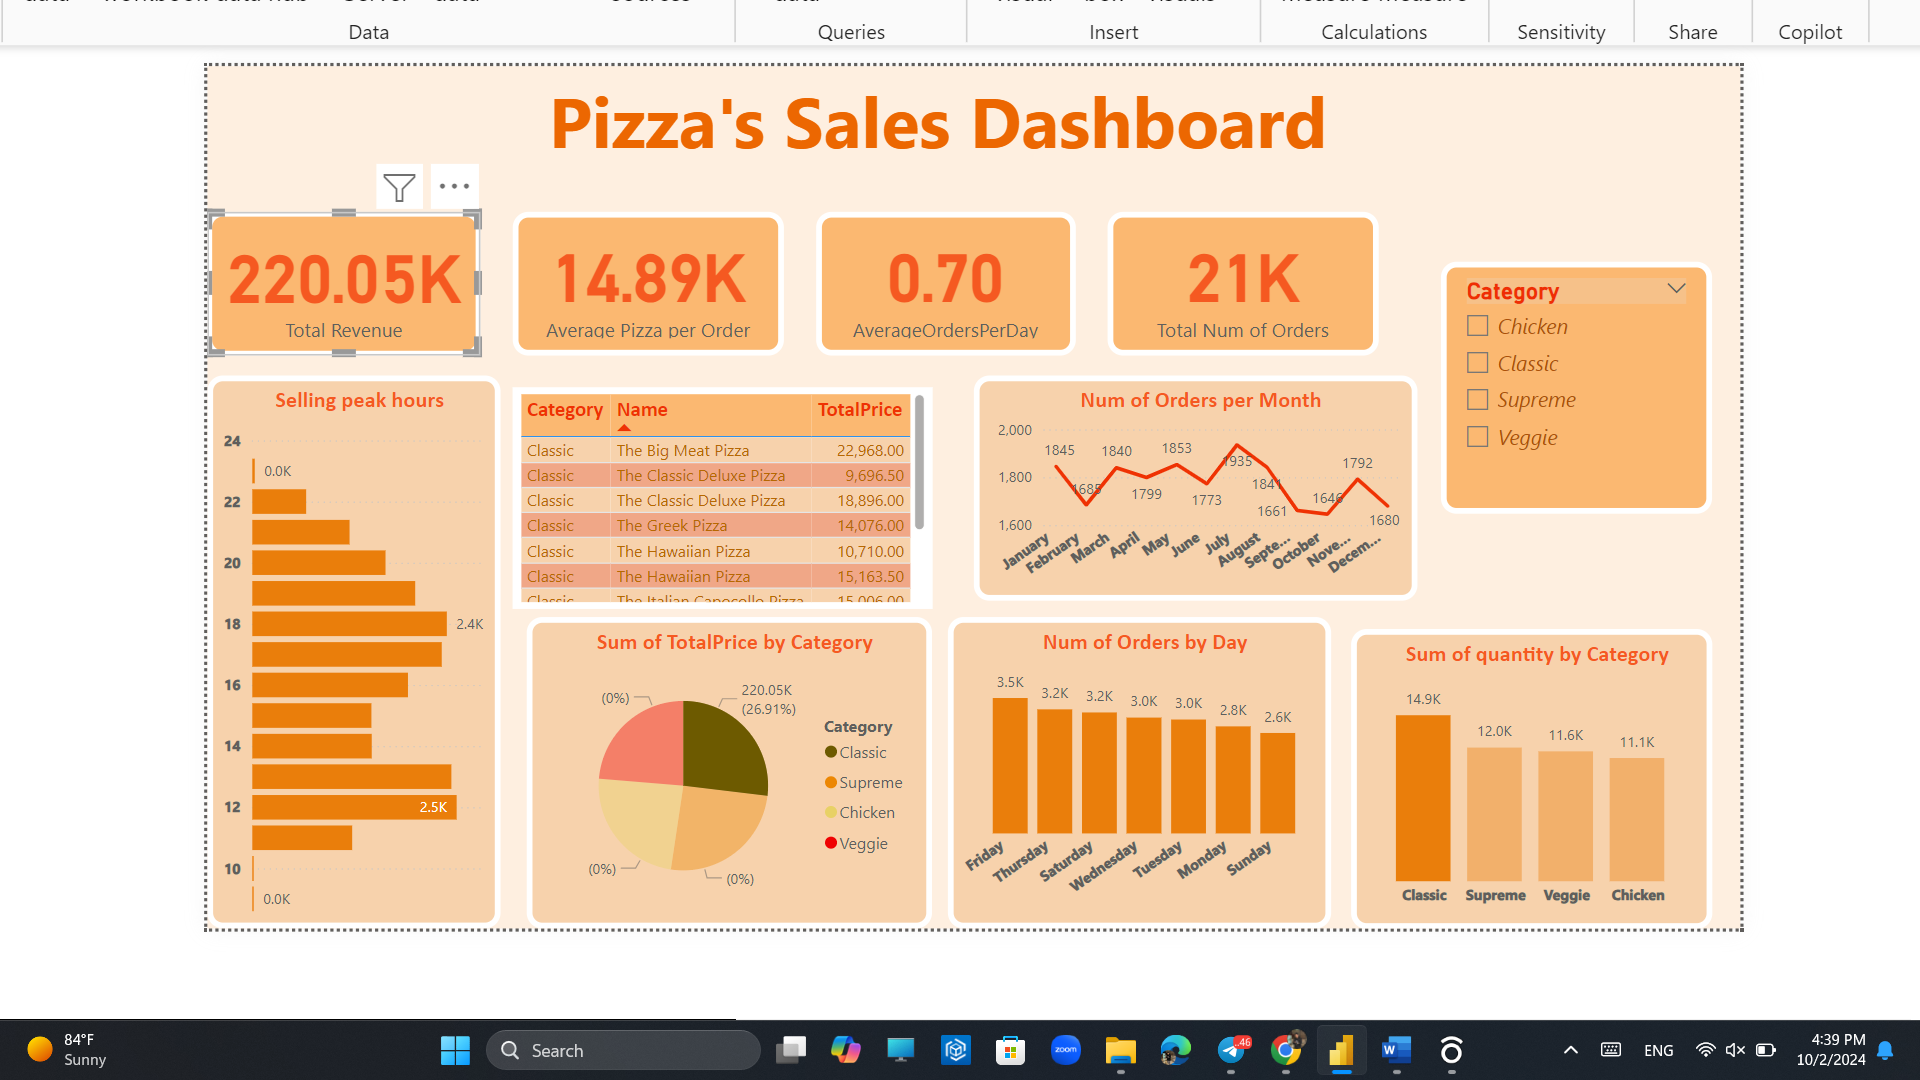

What the dashboard file says about the page in this screenshot:
{"tool":"powerbi","page":{"name":"Page 1","canvas":[1280,720],"ordinal":0},"visuals":[{"type":"card","fields":{"Values":["Sum(pizzas.TotalPrice)"]},"box":[0,121.7,228.3,120],"z":0},{"type":"card","fields":{"Values":["data_dictionary.AverageOrdersPerDay"]},"box":[508.3,121.7,216.7,120],"z":1000},{"type":"card","fields":{"Values":["data_dictionary.Average Pizza per Order"]},"box":[255,121.7,226.7,120],"z":2000},{"type":"tableEx","fields":{"Values":["pizza_types.Category","pizza_types.Name","pizzas.TotalPrice"]},"box":[255,268.3,350,185],"z":3000},{"type":"barChart","title":"Selling peak hours","fields":{"Y":["data_dictionary.Orders by Hour"],"Category":["orders.rder Hour"]},"box":[0,258.3,245,461.7],"z":5000},{"type":"columnChart","fields":{"Category":["pizza_types.Category"],"Y":["Sum(order_details.quantity)"]},"box":[955,470,301.7,250],"z":7000},{"type":"pieChart","fields":{"Category":["pizza_types.Category"],"Y":["Sum(pizzas.TotalPrice)"]},"box":[266.7,460,338.3,260],"z":8000},{"type":"lineChart","title":"Num of Orders per Month","fields":{"Category":["orders.date.Variation.Date Hierarchy.Month"],"Y":["CountNonNull(orders.order_id)"]},"box":[640,258.3,370,188.3],"z":9000},{"type":"slicer","fields":{"Values":["pizza_types.Category"]},"box":[1030,163.3,226.7,210],"z":10000},{"type":"card","fields":{"Values":["data_dictionary.Total Num of Orders"]},"box":[751.7,121.7,226.7,120],"z":12000},{"type":"textbox","box":[280,0,675,103.3],"z":13000},{"type":"columnChart","fields":{"Category":["orders.date - Copy"],"Y":["CountNonNull(orders.order_id)"]},"box":[618.3,460,320,260],"z":14000}]}

Visuals, with their boxes on the page's 1280x720 design canvas (x1, y1, x2, y2). These are canvas units, not pixel positions in the 1920x1080 screenshot, which may show the page scaled, cropped or inside an application window:
card - Sum(pizzas.TotalPrice): box(0, 122, 228, 242)
card - data_dictionary.AverageOrdersPerDay: box(508, 122, 725, 242)
card - data_dictionary.Average Pizza per Order: box(255, 122, 482, 242)
tableEx - pizza_types.Category x pizza_types.Name: box(255, 268, 605, 453)
"Selling peak hours" barChart: box(0, 258, 245, 720)
columnChart - pizza_types.Category x Sum(order_details.quantity): box(955, 470, 1257, 720)
pieChart - pizza_types.Category x Sum(pizzas.TotalPrice): box(267, 460, 605, 720)
"Num of Orders per Month" lineChart: box(640, 258, 1010, 447)
slicer - pizza_types.Category: box(1030, 163, 1257, 373)
card - data_dictionary.Total Num of Orders: box(752, 122, 978, 242)
textbox: box(280, 0, 955, 103)
columnChart - orders.date - Copy x CountNonNull(orders.order_id): box(618, 460, 938, 720)
